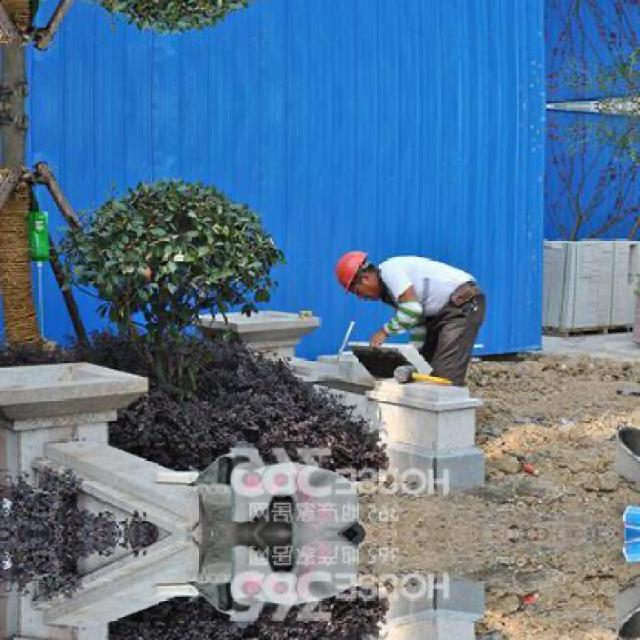con casco: (318, 237, 383, 319)
